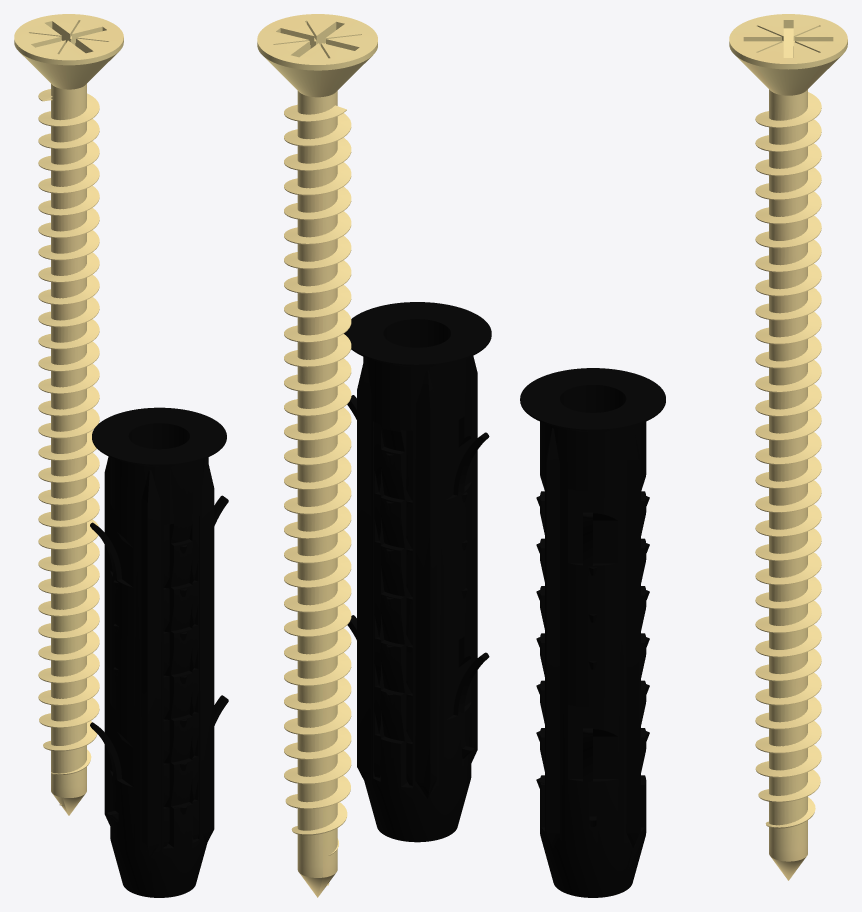
The model's file is KAXN_H.glb.
3 views of the same model, side by side, from view 1: azimuth 30°, elevation 25°; view 2: azimuth 150°, elevation 25°; view 3: azimuth 270°, elevation 25° (orthographic). The views are drawn at different scales.
Parts seen in each view (by area): view 1: AXN.002, SCREW_CROSS; view 2: AXN.002, SCREW_CROSS; view 3: AXN.002, SCREW_CROSS.
Part boxes in pixels (x1,y1,x2,y2): AXN.002: [90, 407, 228, 897]; SCREW_CROSS: [14, 14, 123, 815]; AXN.002: [344, 302, 491, 842]; SCREW_CROSS: [257, 14, 377, 897]; AXN.002: [520, 368, 665, 897]; SCREW_CROSS: [729, 14, 847, 880].
Bounding box in the file's own units: 0.0123 × 0.07 × 0.0247.
2 materials, 2 textured.
